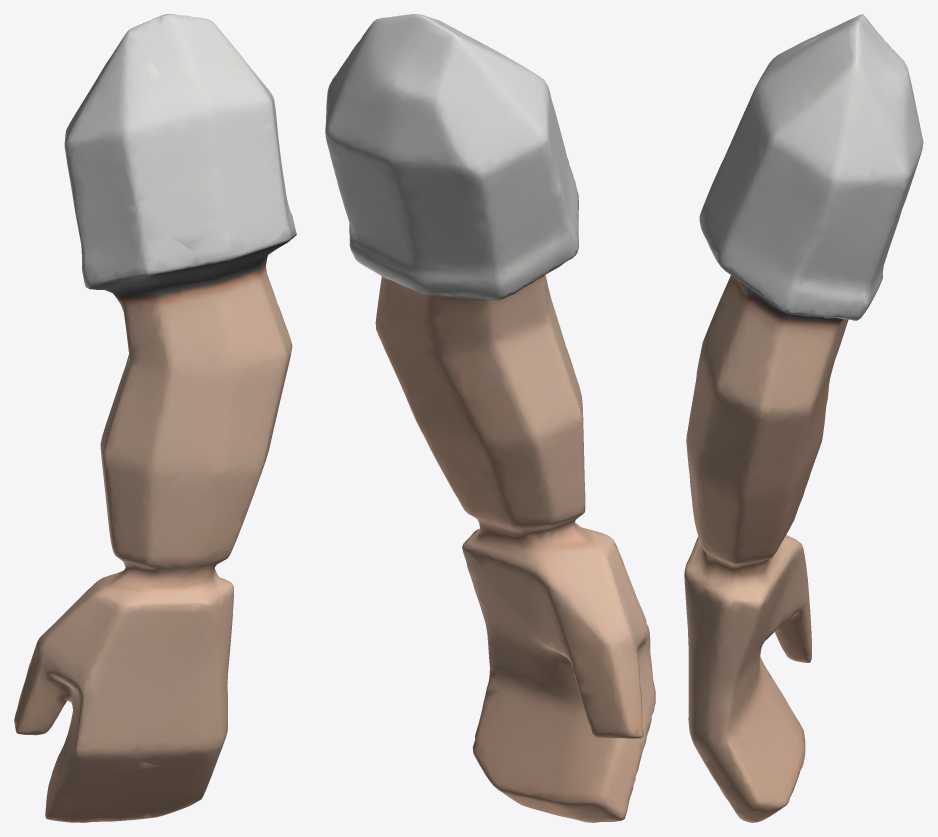
File: turistaBrazoIzq.obj
3 views of the same model, side by side, from view 1: azimuth 30°, elevation 25°; view 2: azimuth 150°, elevation 25°; view 3: azimuth 270°, elevation 25° (orthographic). The views are drawn at different scales.
Visible parts, largest first — view 1: input; view 2: input; view 3: input.
Boxes of the visible parts, box(x1,y1,x2,y2) form: input: box(14, 14, 296, 822); input: box(325, 14, 655, 822); input: box(684, 14, 923, 822).
Bounding box in the file's own units: 0.0306 × 0.0803 × 0.0211.
1 material, 1 textured.
